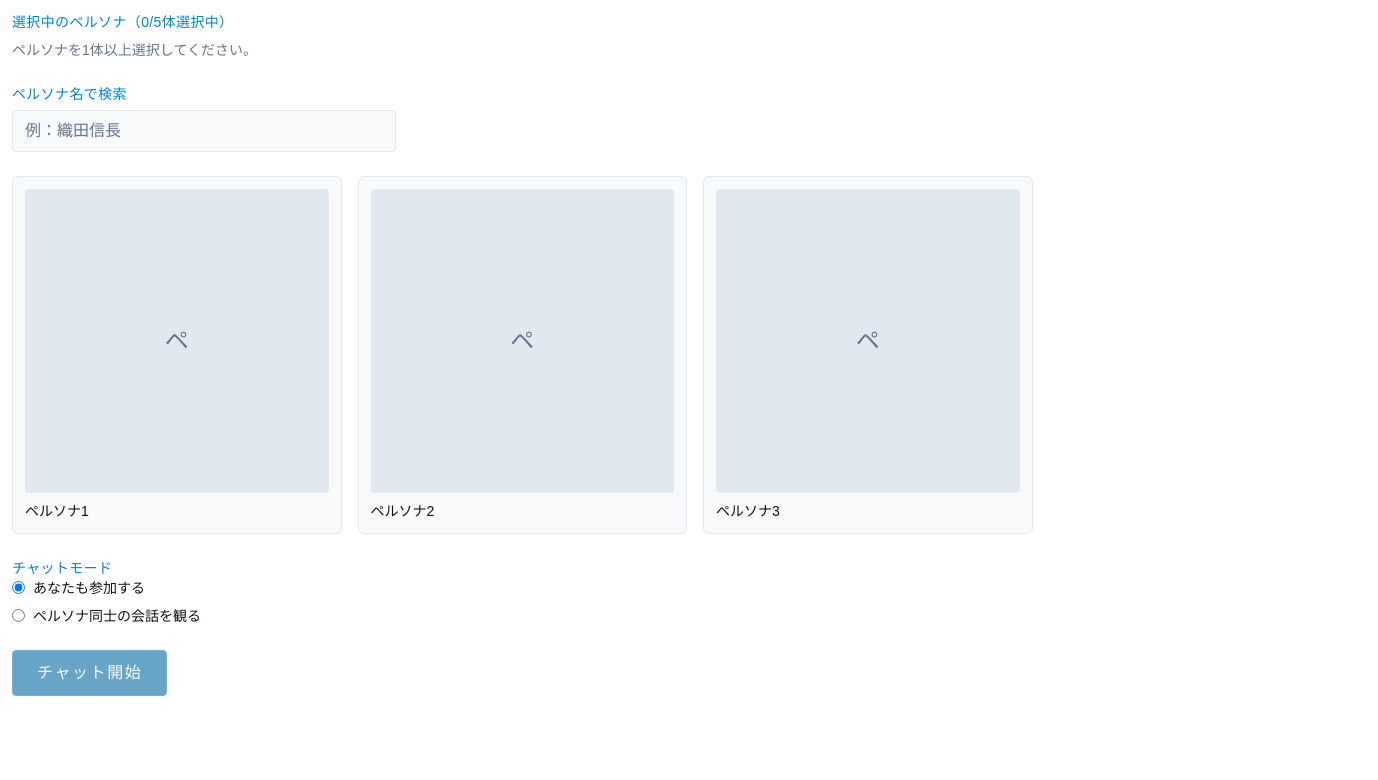
it: PersonaSelector › ペルソナをクリックすると選択済み一覧に追加され、開始ボタンが有効になる
The width and height of the screenshot is (1378, 780).
Click the button "ペ ペルソナ1".
click(177, 355)  # box [12,176,342,534]
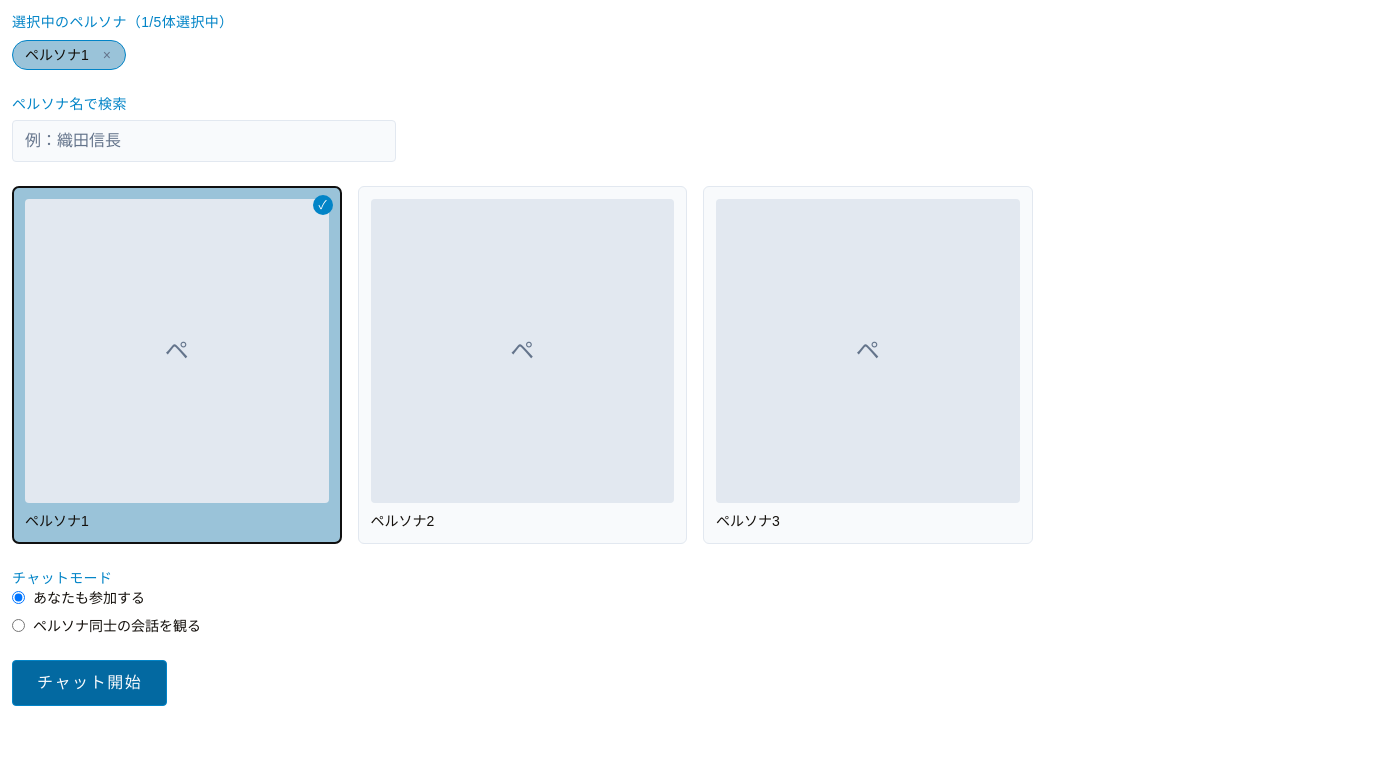
Expected: the heading "選択中のペルソナ（1/5体選択中）" is shown, [12,14,233,30]
Expected: the button named "ペルソナ1の選択を解除" is shown, [97,45,117,65]
Expected: the button "チャット開始" is enabled, [12,660,168,706]
